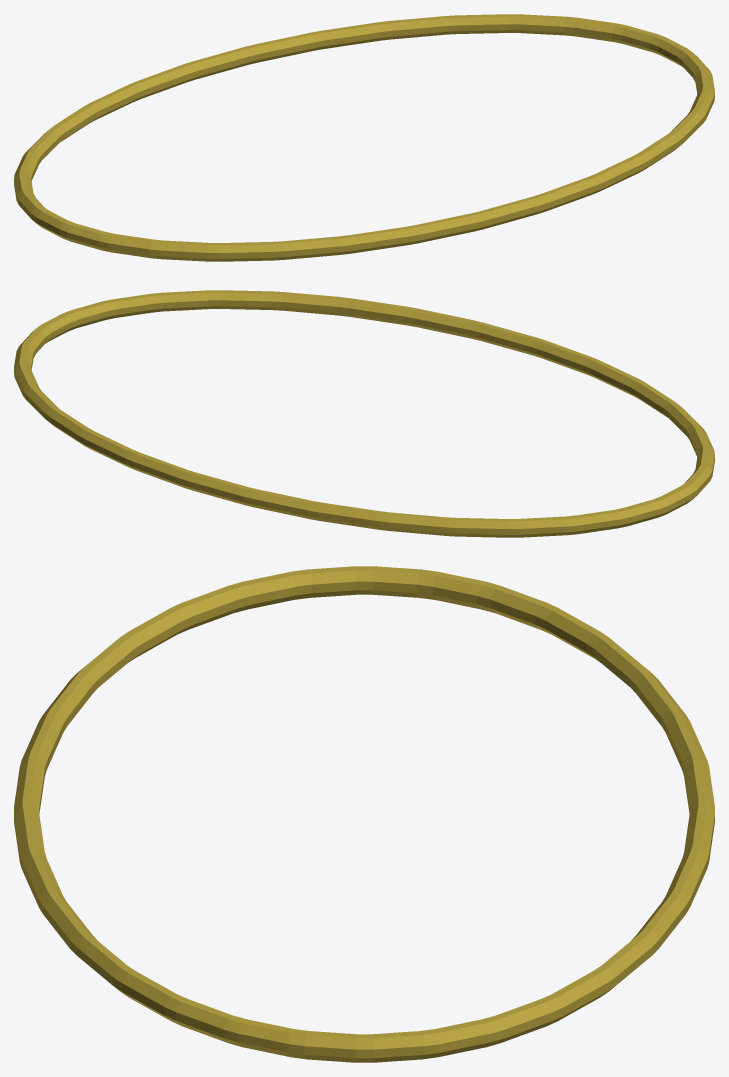
File: goldnecklace.fbx
The picture shows the model from 3 angles, top to bottom: view 1: azimuth 30°, elevation 25°; view 2: azimuth 150°, elevation 25°; view 3: azimuth 270°, elevation 25°; orthographic projection. The views are drawn at different scales.
Parts seen in each view (by area): view 1: Cylinder; view 2: Cylinder; view 3: Cylinder.
Part boxes in pixels (x1,y1,x2,y2): Cylinder: (14, 14, 714, 261); Cylinder: (14, 290, 714, 537); Cylinder: (14, 566, 714, 1062).
Size of the model in its own units: 255 by 6.04 by 158.
